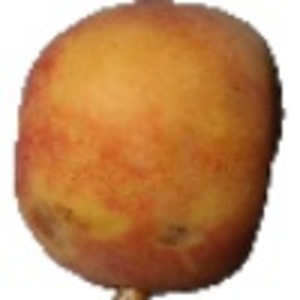pêssego: (1, 1, 286, 300)
